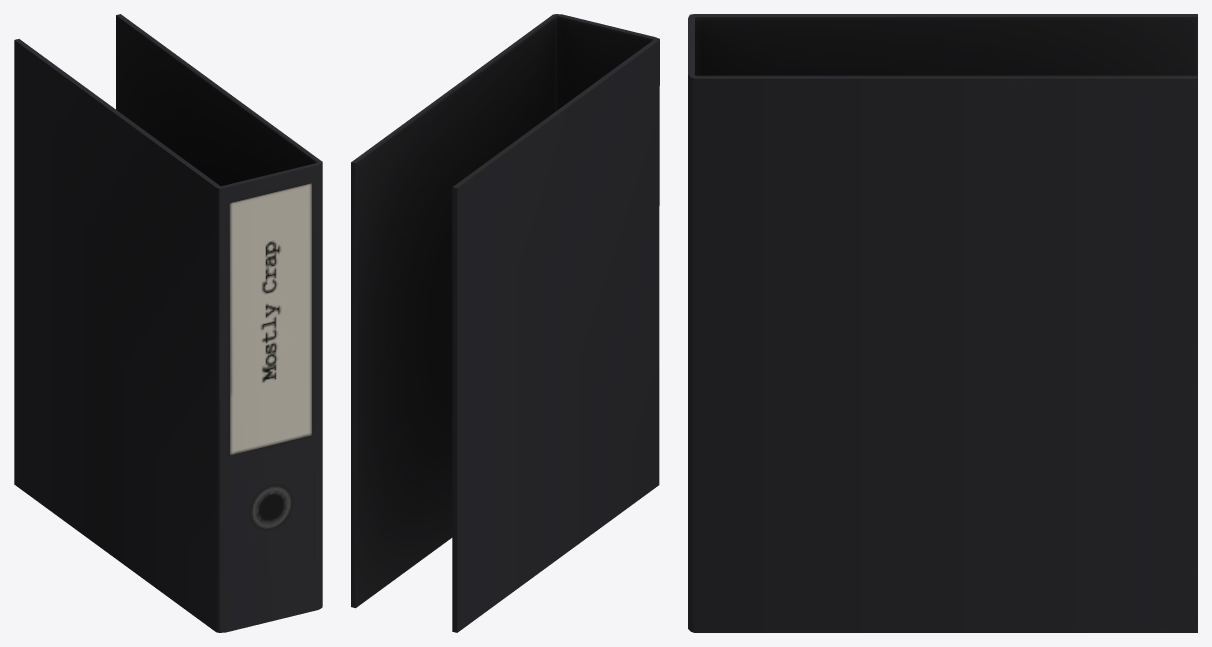
Rendered from binder.FBX.
3 renders of one model, left to right at view 1: azimuth 30°, elevation 25°; view 2: azimuth 150°, elevation 25°; view 3: azimuth 270°, elevation 25°, orthographic. The views are drawn at different scales.
Visible parts, largest first — view 1: binder_low; view 2: binder_low; view 3: binder_low.
Part boxes in pixels (x1,y1,x2,y2): binder_low: (14, 14, 322, 632); binder_low: (351, 14, 659, 632); binder_low: (688, 14, 1197, 632).
Size of the model in its own units: 0.0762 by 0.3048 by 0.254.
Materials: 1 (1 with a texture image).
